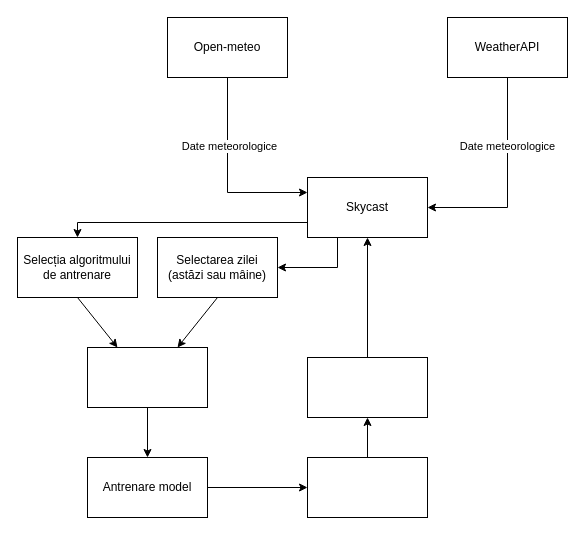
This 585x535 diagram has some shape labels left out. Here are the shapes that lost their labels. From the top down, the centre of each, then its label:
the point at 147,377: Creare model
the point at 367,387: Afișarea datelor (listă sau grafic)
the point at 367,487: Calcularea metricilor de evaluare
